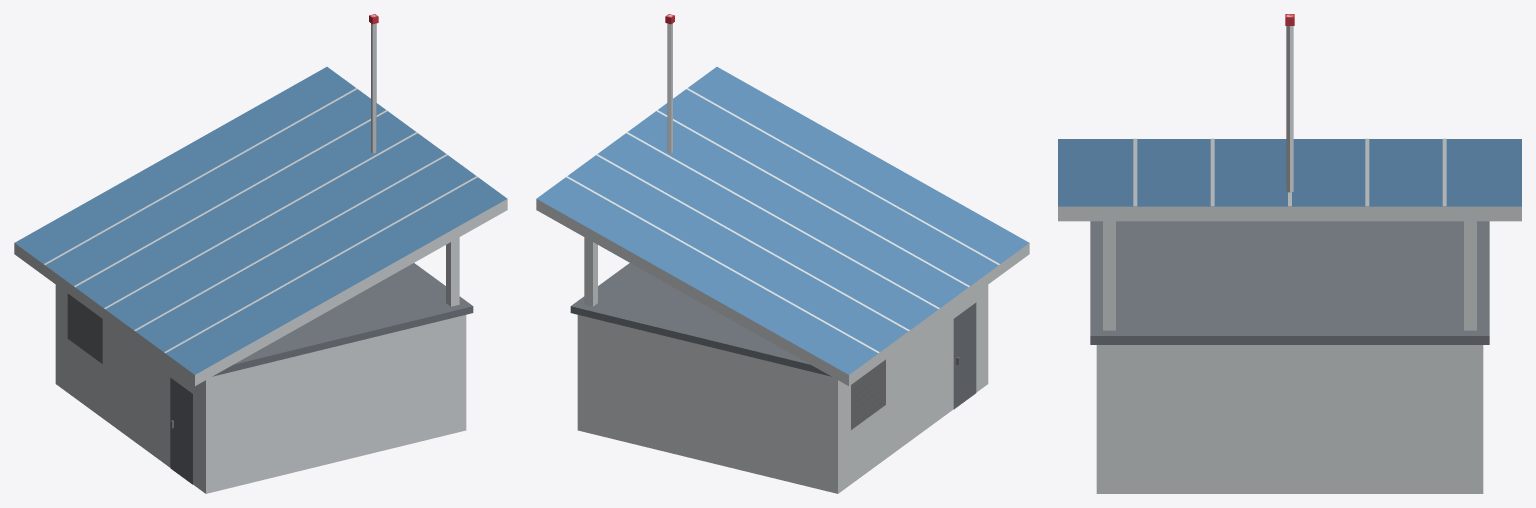
Rendered from roofprop_close.fbx.
3 renders of one model, left to right at view 1: azimuth 30°, elevation 25°; view 2: azimuth 150°, elevation 25°; view 3: azimuth 270°, elevation 25°, orthographic. The views are drawn at different scales.
Parts seen in each view (by area): view 1: a2007/750/roofprop_close; view 2: a2007/750/roofprop_close; view 3: a2007/750/roofprop_close.
Boxes of the visible parts, x1,y1,x2,y2 form: a2007/750/roofprop_close: (14,14,507,493); a2007/750/roofprop_close: (536,14,1029,493); a2007/750/roofprop_close: (1058,14,1521,493).
Size of the model in its own units: 7.2 by 8 by 7.2.
